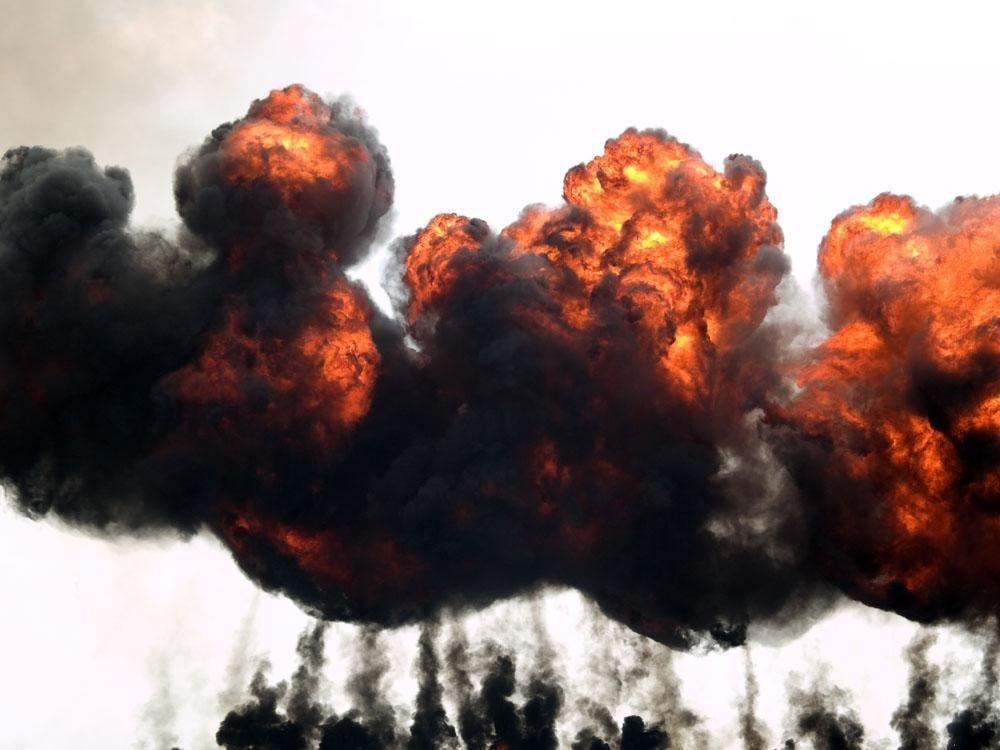fire: (225, 83, 371, 187)
